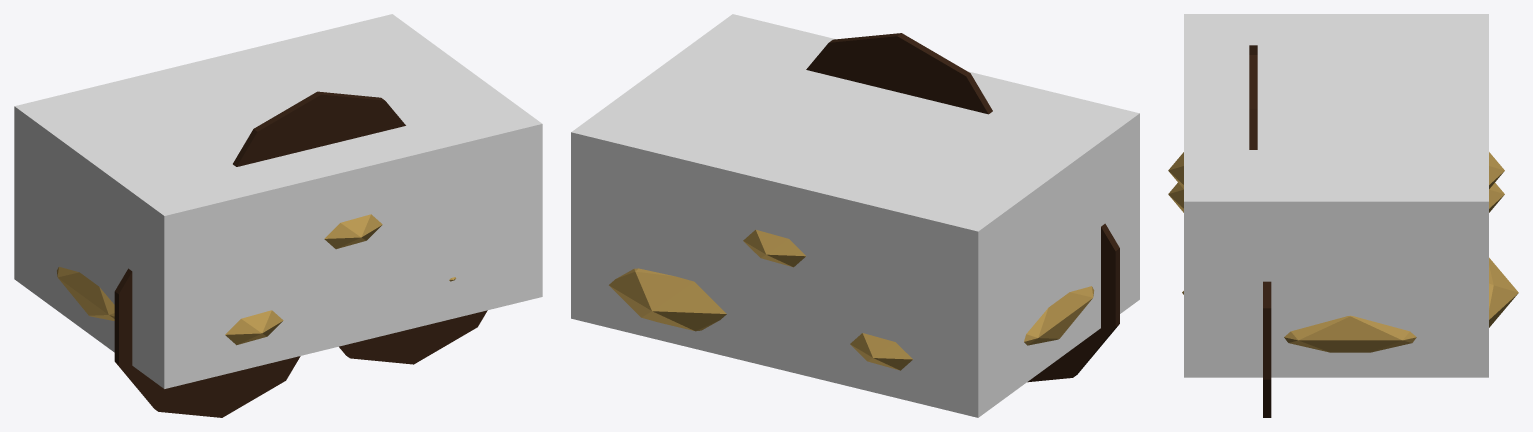
The model's file is RiceBags.fbx.
3 renders of one model, left to right at view 1: azimuth 30°, elevation 25°; view 2: azimuth 150°, elevation 25°; view 3: azimuth 270°, elevation 25°, orthographic. The views are drawn at different scales.
Visible parts, largest first — view 1: COL_RiceBags_0, RiceBags; view 2: COL_RiceBags_0, RiceBags; view 3: COL_RiceBags_0, RiceBags.
Boxes of the visible parts, box(x1,y1,x2,y2) form: COL_RiceBags_0: box(14, 14, 542, 388); RiceBags: box(57, 91, 487, 417); COL_RiceBags_0: box(571, 14, 1139, 417); RiceBags: box(609, 33, 1119, 382); COL_RiceBags_0: box(1184, 14, 1488, 377); RiceBags: box(1168, 45, 1518, 417).
Size of the model in its own units: 1.71 by 1.21 by 1.27.
